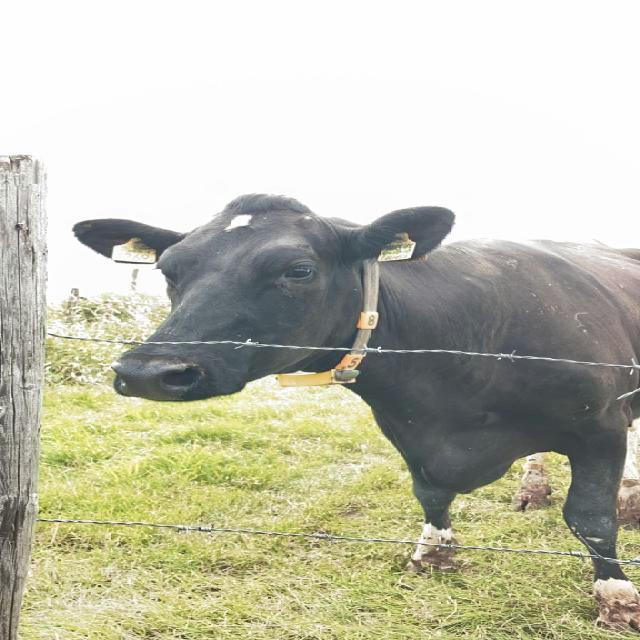cow: (75, 195, 640, 566)
